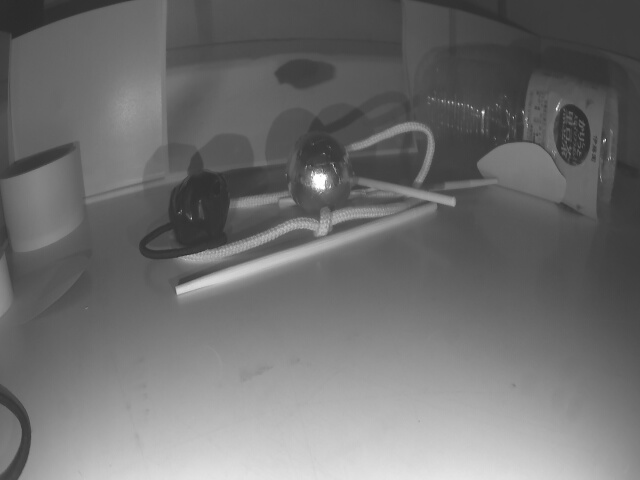Dead: (168, 174, 234, 246)
Live: (286, 132, 352, 215)
